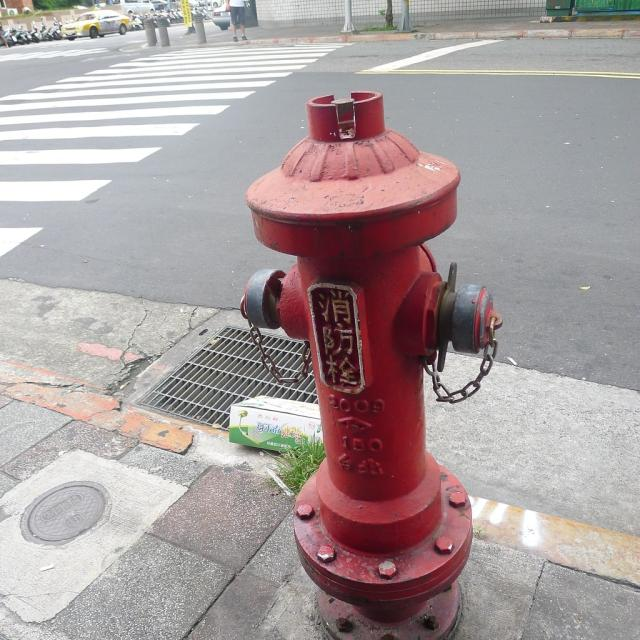fire_hydrant: (189, 97, 538, 636)
